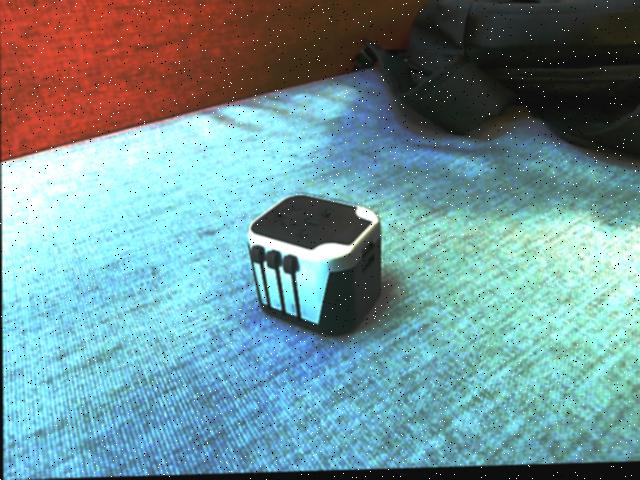adapter: (246, 193, 382, 340)
